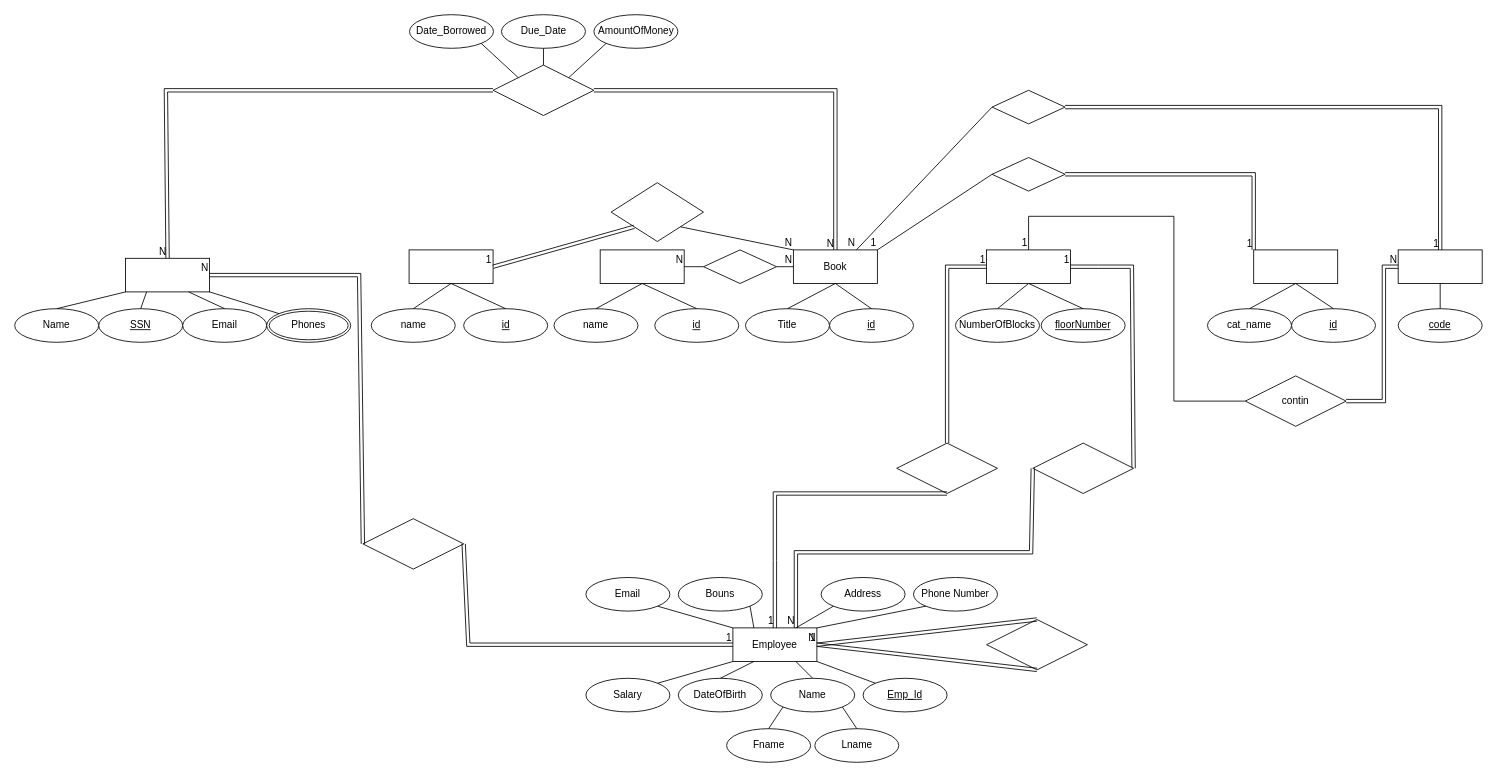
Image size: 1497x777. Some labels were removed from this diagram. Here are the shapes that lost their labels. From the top down, the centre of each, then its label:
At [543,90]: "Borrow".
At [1028,106]: "assign".
At [1028,174]: "classification".
At [657,212]: "Have Publisher".
At [167,274]: "user".
At [450,266]: "Publisher".
At [641,266]: "Auther".
At [740,266]: "Have author".
At [1028,266]: "floor".
At [1295,266]: "category".
At [1439,266]: "shelf".
At [947,468]: "manage".
At [1083,468]: "work".
At [413,543]: "Record".
At [1036,644]: "supervisor".
